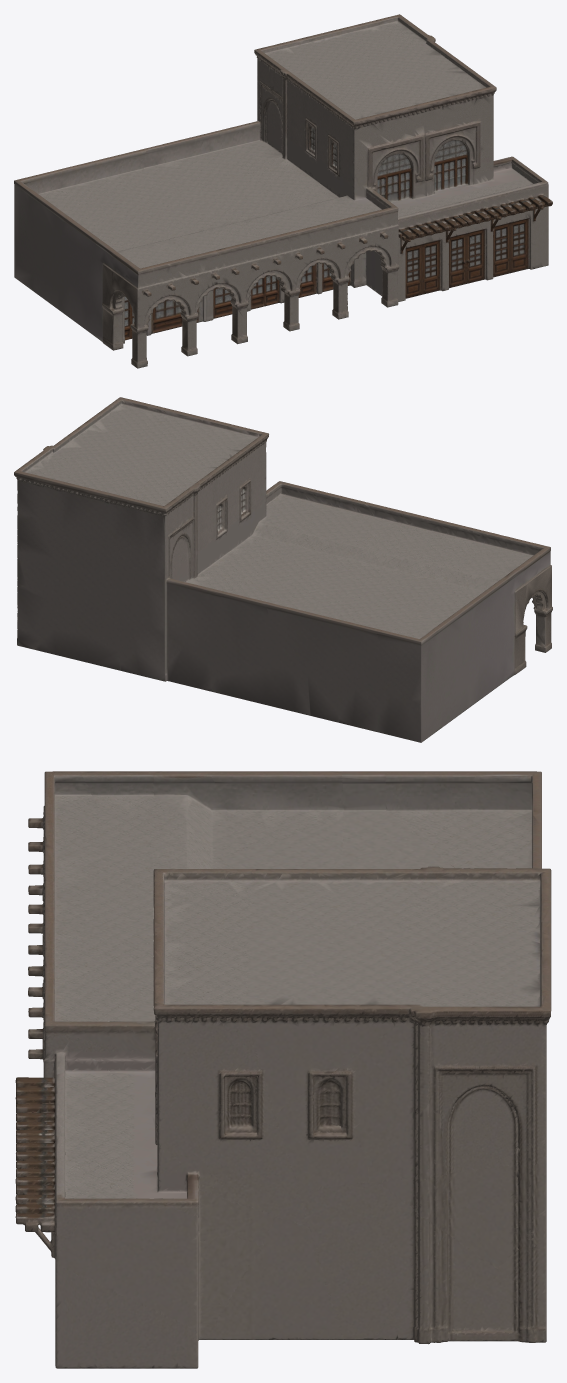
Rendered from arcade.glb.
3 renders of one model, top to bottom at view 1: azimuth 30°, elevation 25°; view 2: azimuth 150°, elevation 25°; view 3: azimuth 270°, elevation 25°, orthographic. The views are drawn at different scales.
Visible parts, largest first — view 1: mesh_node; view 2: mesh_node; view 3: mesh_node.
Boxes of the visible parts, bbox=[...] form: mesh_node: bbox=[14, 14, 552, 368]; mesh_node: bbox=[14, 397, 552, 742]; mesh_node: bbox=[15, 771, 551, 1368].
Bounding box in the file's own units: 1.9 × 0.7328 × 1.06.
Materials: 1 (1 with a texture image).
